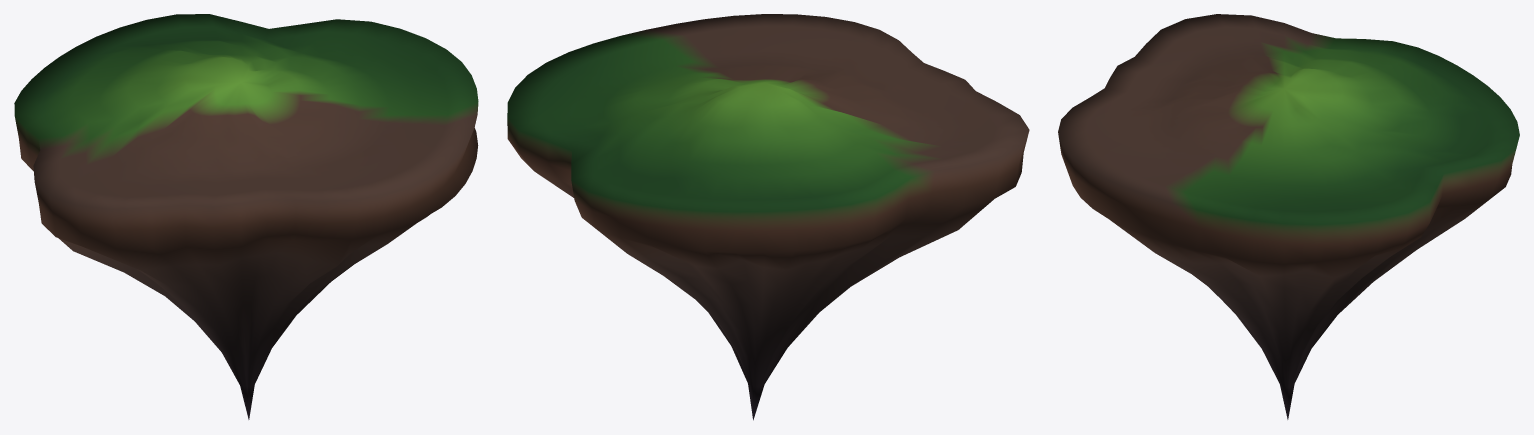
Rendered from island.lod1.glb.
3 views of the same model, side by side, from view 1: azimuth 30°, elevation 25°; view 2: azimuth 150°, elevation 25°; view 3: azimuth 270°, elevation 25° (orthographic). The views are drawn at different scales.
Visible parts, largest first — view 1: island_s1_lod1; view 2: island_s1_lod1; view 3: island_s1_lod1.
Boxes of the visible parts, bbox=[...] form: island_s1_lod1: bbox=[14, 14, 478, 419]; island_s1_lod1: bbox=[507, 14, 1029, 420]; island_s1_lod1: bbox=[1058, 14, 1519, 419].
Size of the model in its own units: 10.3 by 7.51 by 9.59.
